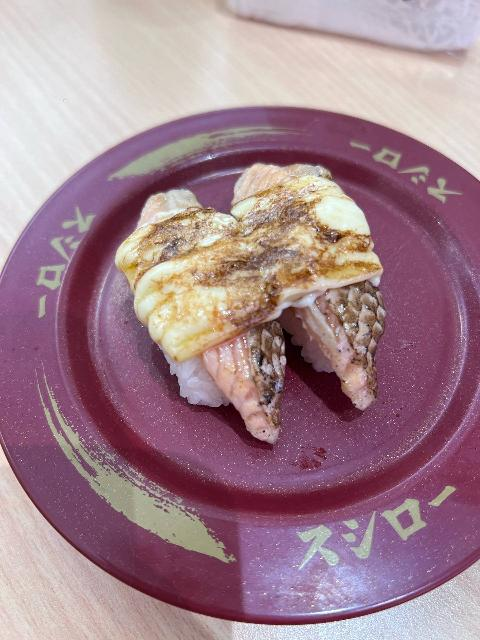janred: (0, 93, 480, 583)
